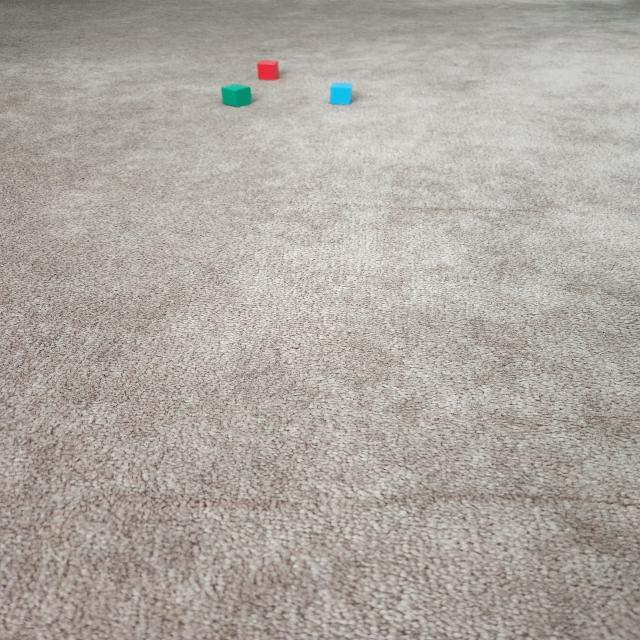bluecube: (329, 81, 353, 106)
green cube: (221, 82, 253, 108)
red cube: (258, 60, 280, 80)
